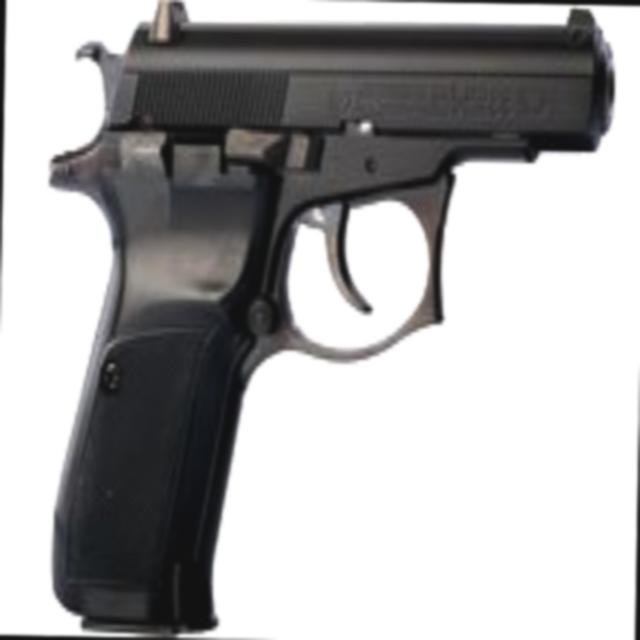semi automatic: (30, 0, 623, 640)
